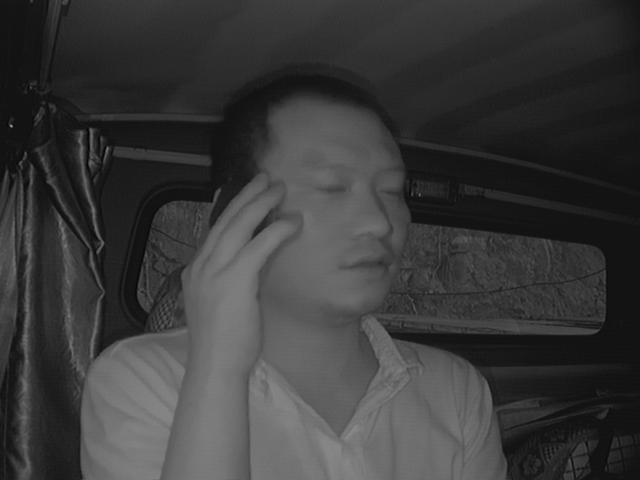hand: (168, 175, 302, 356)
